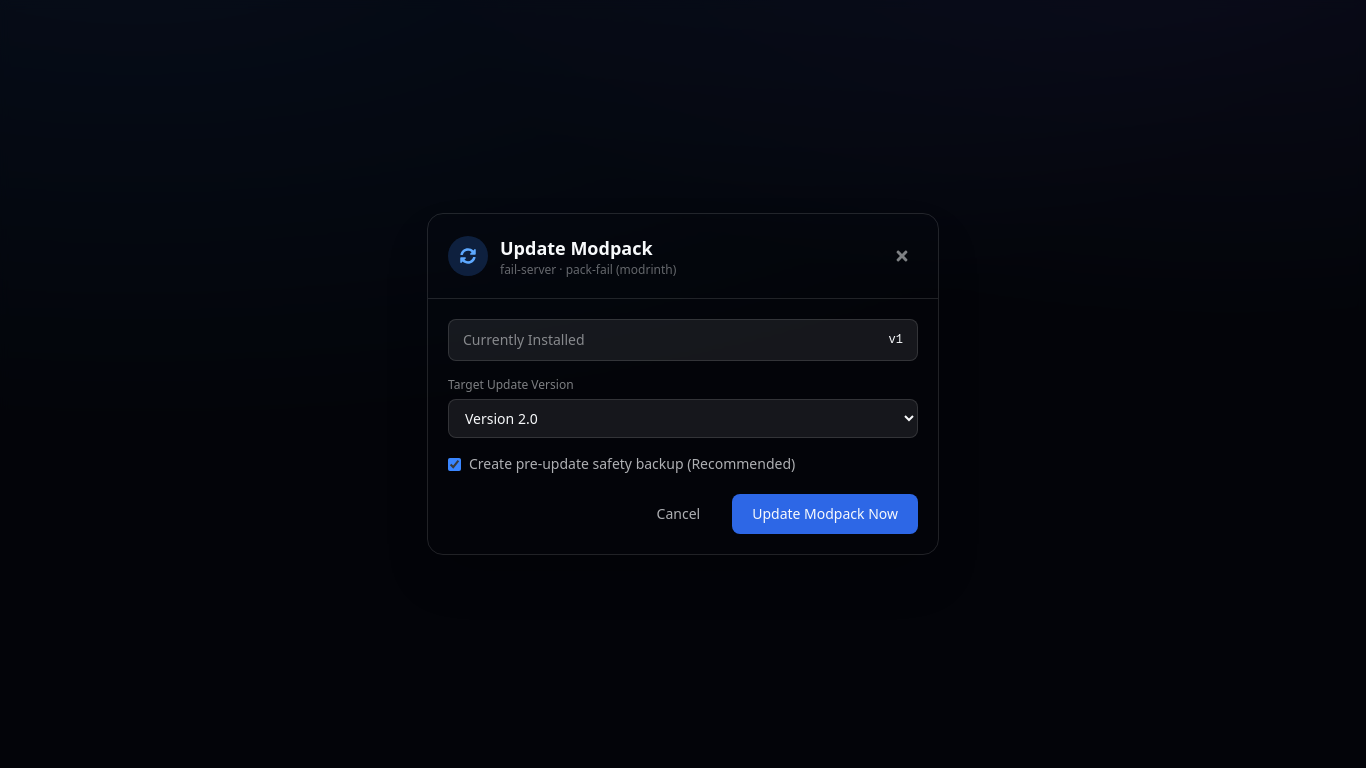
ModpackUpdateModal Adversarial & Contract Resilience › submits update request and handles failure response gracefully
Click the button "Update Modpack Now". click: (825, 514)
box: [732,494,918,534]
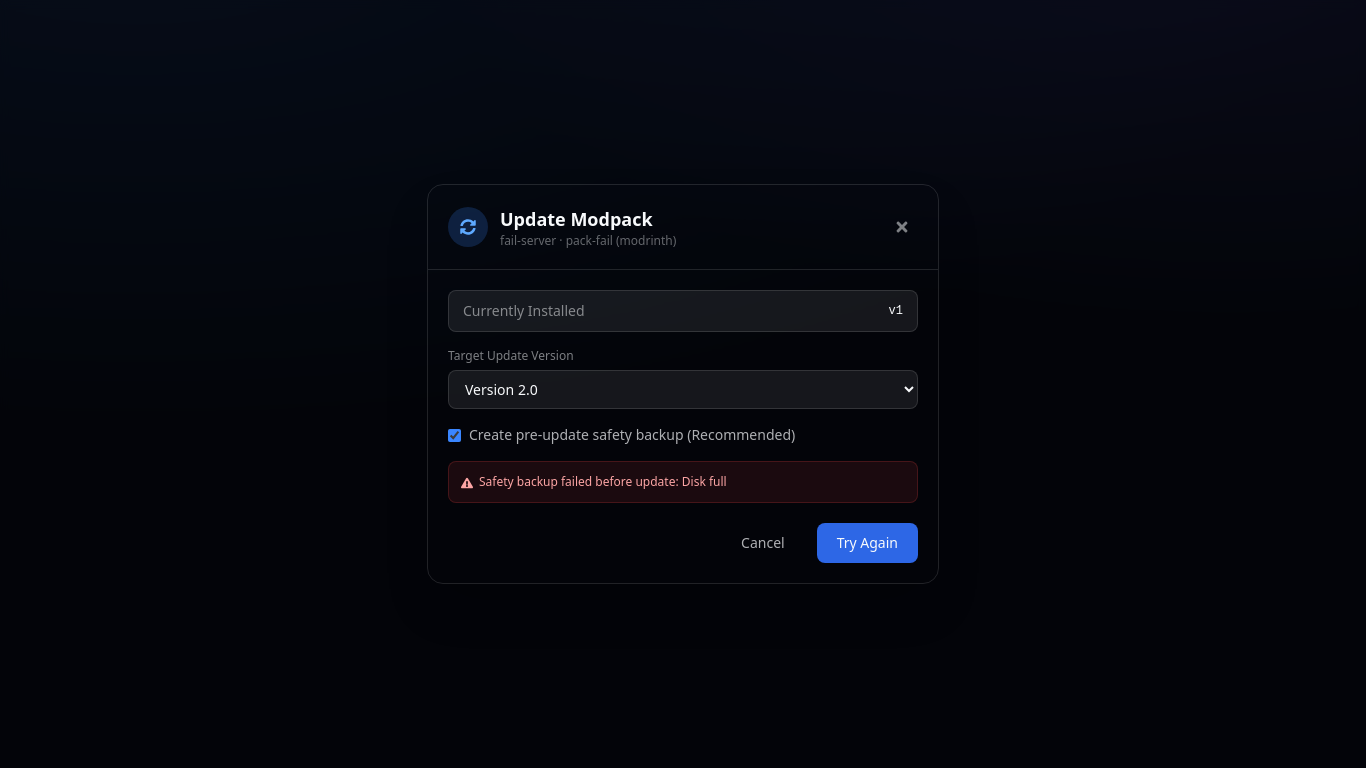
Expected: the text "Safety backup failed before update: Disk full" is shown, [448,461,918,503]
